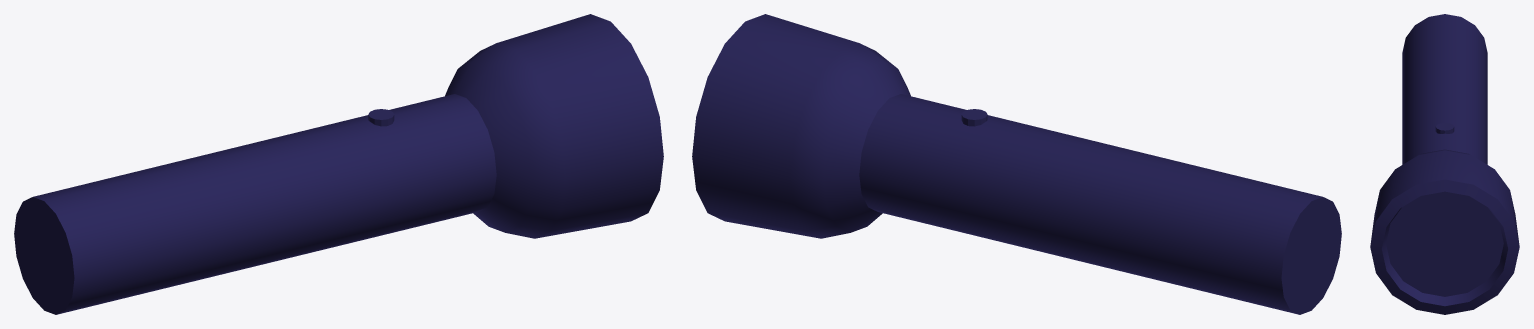
The model's file is Linterna.fbx.
3 renders of one model, left to right at view 1: azimuth 30°, elevation 25°; view 2: azimuth 150°, elevation 25°; view 3: azimuth 270°, elevation 25°, orthographic. The views are drawn at different scales.
Parts seen in each view (by area): view 1: Linterna; view 2: Linterna; view 3: Linterna.
Boxes of the visible parts, x1,y1,x2,y2 form: Linterna: [14, 14, 663, 314]; Linterna: [692, 14, 1341, 314]; Linterna: [1370, 14, 1519, 314].
Bounding box in the file's own units: 32.4 × 10.42 × 10.42.
